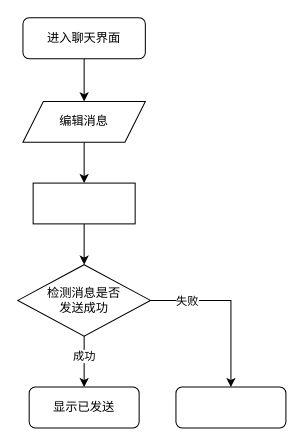
The diagram is 304 pixels wide and 446 high, and some of its shapes have lost their labels. Here are the shapes that lost their labels. From the top down, the centre of each, then its label:
(83,203): 发送消息
(230,407): 显示发送失败
